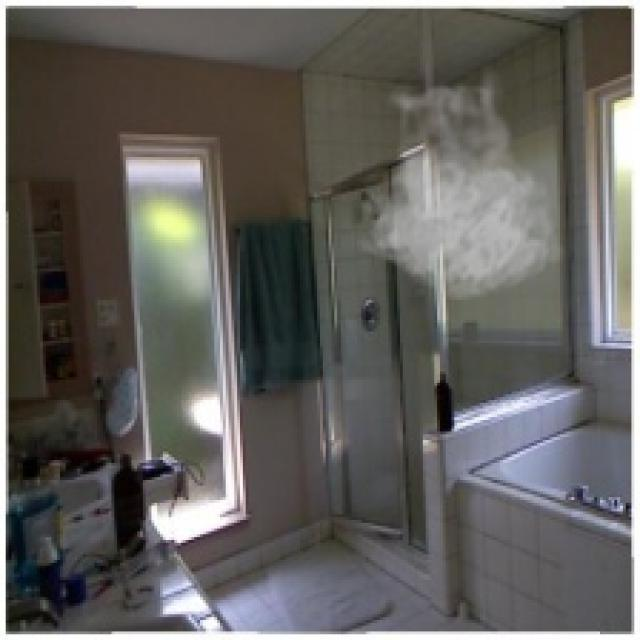Smoke: (351, 66, 566, 303)
